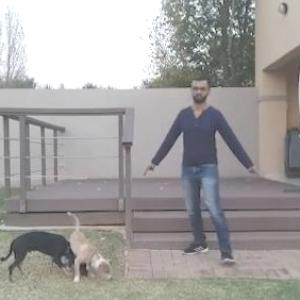land: (142, 70, 296, 280)
